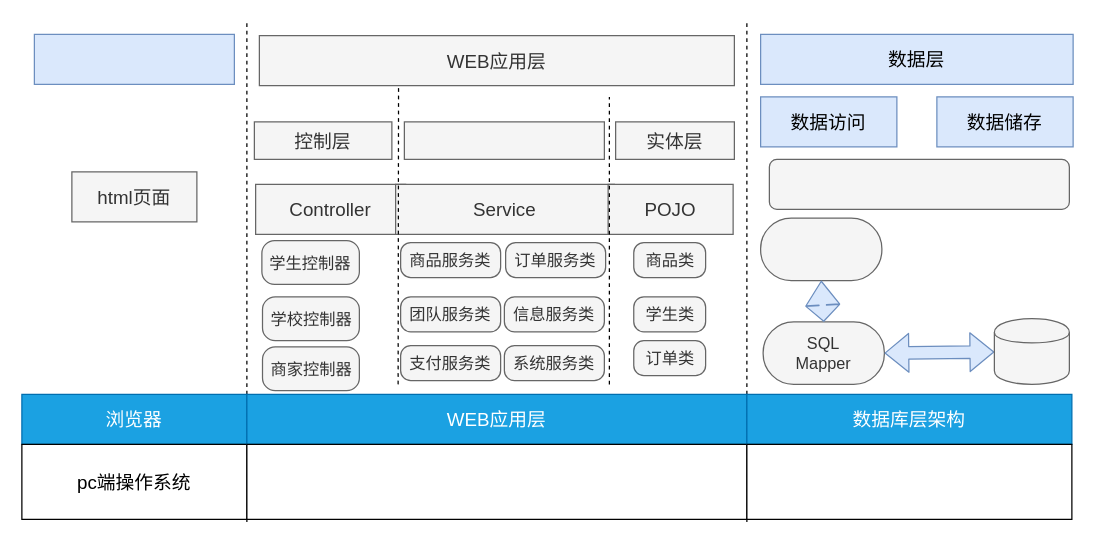
This 1095x545 diagram has some shape labels left out. The box of each missing label's shape, as (x1, y1, x2, y2) in pixels:
JavaEE，WEB应用服务器: (246, 443, 747, 519)
mybatis: (768, 158, 1069, 209)
MYSQL数据库: (746, 443, 1072, 519)
业务逻辑层: (403, 121, 604, 159)
数据库: (993, 318, 1069, 384)
表现层: (33, 33, 234, 84)
访问接口 DAO: (759, 217, 882, 281)
